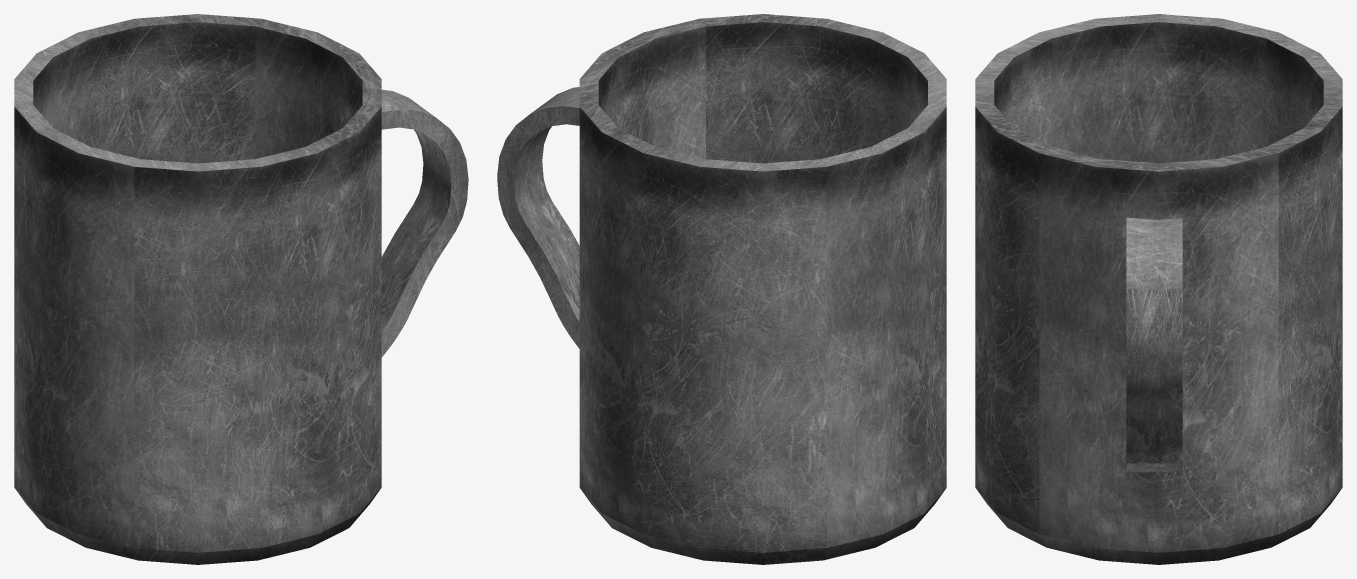
Rendered from Glass.FBX.
3 views of the same model, side by side, from view 1: azimuth 30°, elevation 25°; view 2: azimuth 150°, elevation 25°; view 3: azimuth 270°, elevation 25° (orthographic).
Parts seen in each view (by area): view 1: glass; view 2: glass; view 3: glass.
Part boxes in pixels (bbox=[...]): glass: bbox=[14, 14, 468, 564]; glass: bbox=[497, 14, 946, 564]; glass: bbox=[975, 14, 1342, 564].
Bounding box in the file's own units: 15.05 × 13.79 × 11.52.
1 material, 1 textured.
